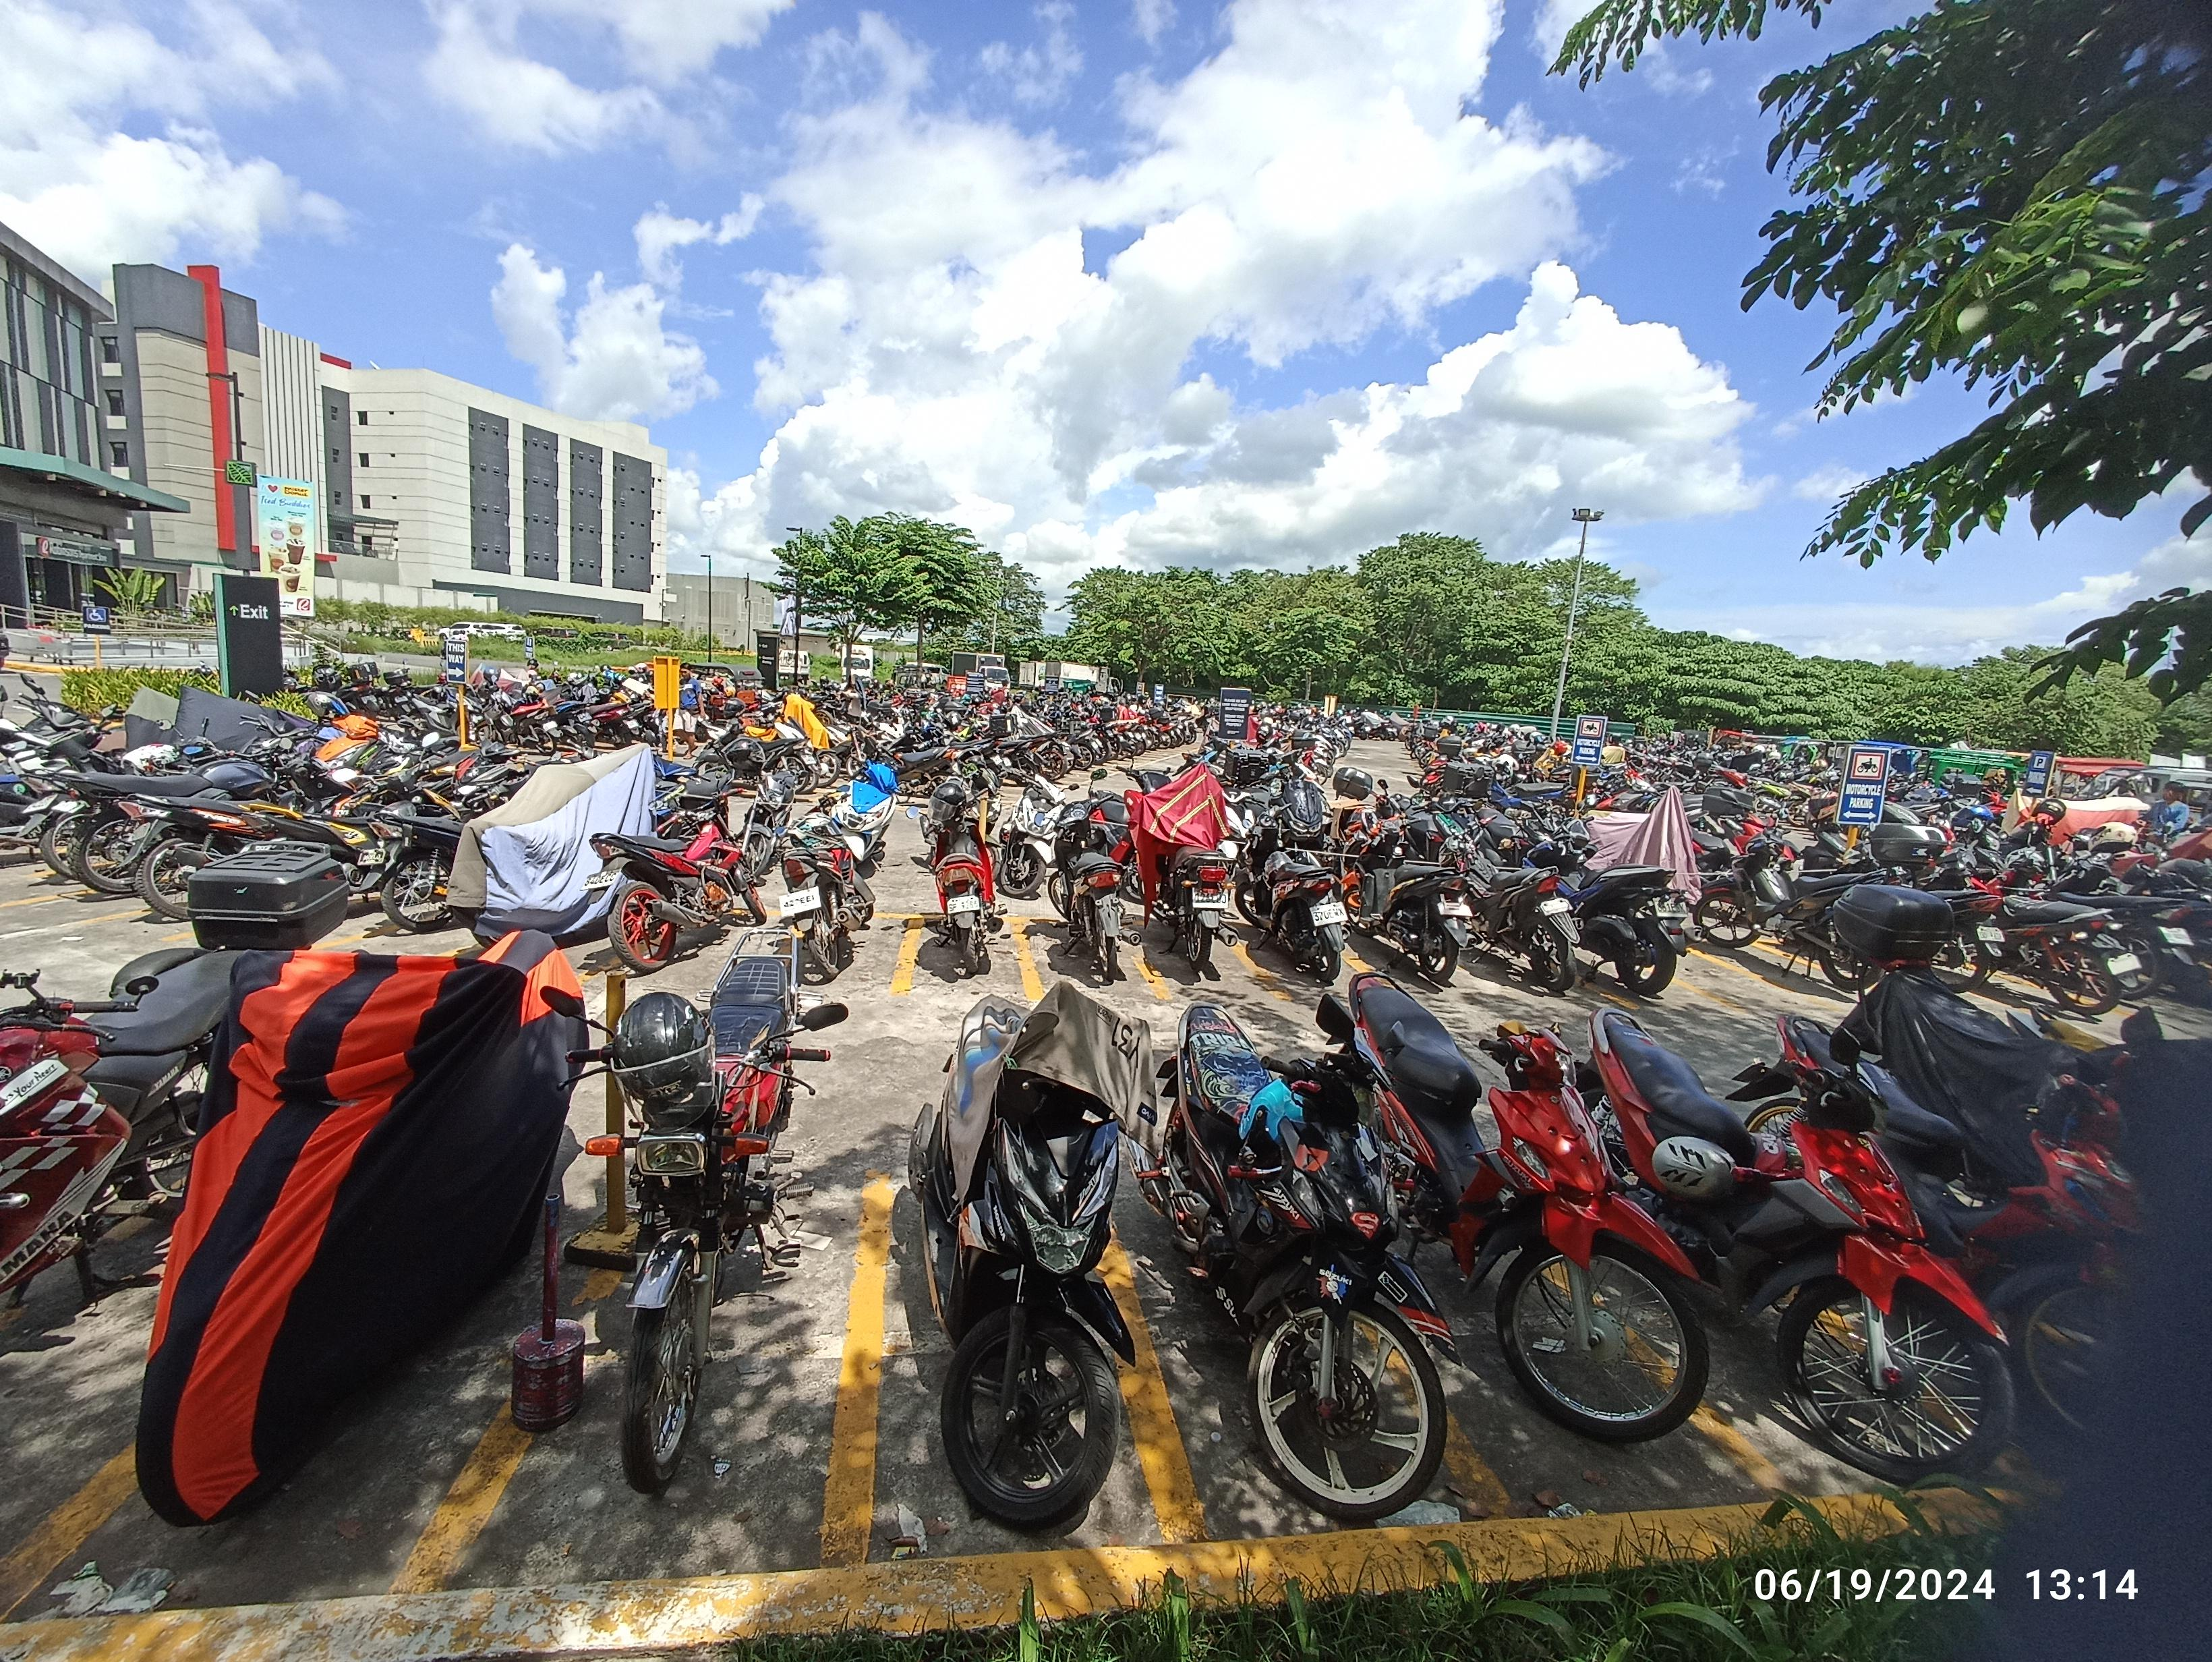occupied: (356, 1170, 897, 1660), (1086, 1201, 1568, 1606), (815, 1180, 1234, 1627), (1212, 917, 1405, 1000), (1110, 917, 1295, 1000), (766, 910, 927, 997), (1013, 917, 1170, 999), (899, 917, 1037, 995)
